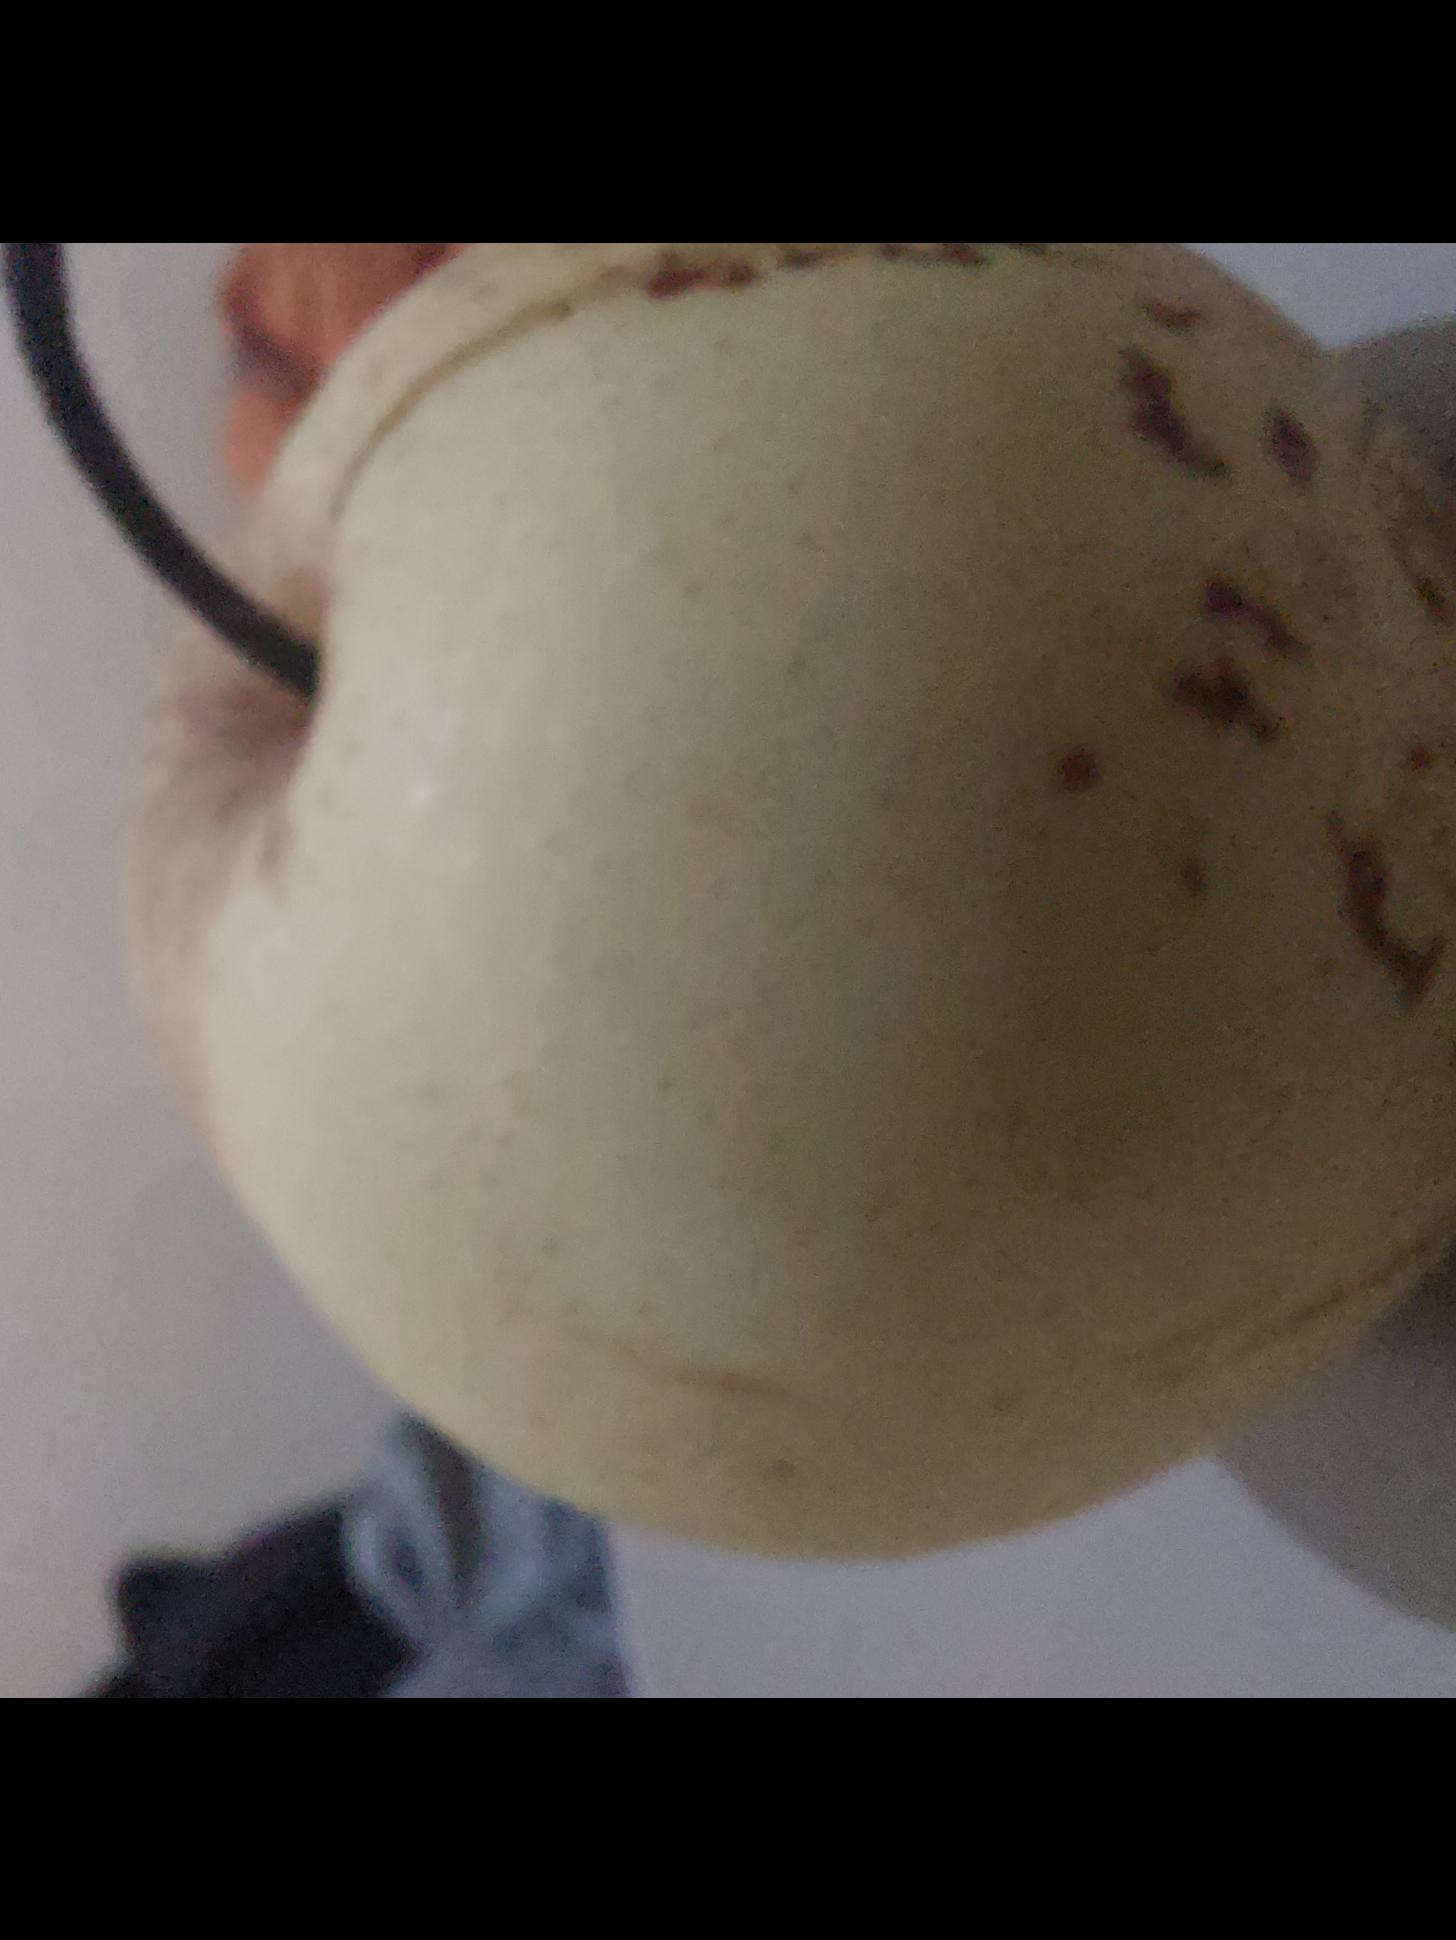Bad Pear: (178, 242, 1456, 1551)
